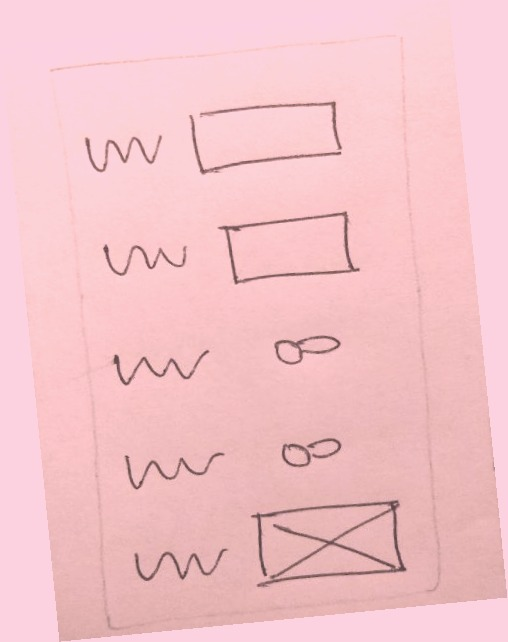image: (240, 487, 417, 600)
switch: (263, 318, 352, 377), (265, 421, 357, 478)
text: (101, 331, 226, 397), (94, 223, 201, 296), (116, 434, 236, 498), (122, 529, 235, 593), (73, 114, 174, 183)
text_input: (175, 82, 360, 182), (209, 198, 376, 296)
